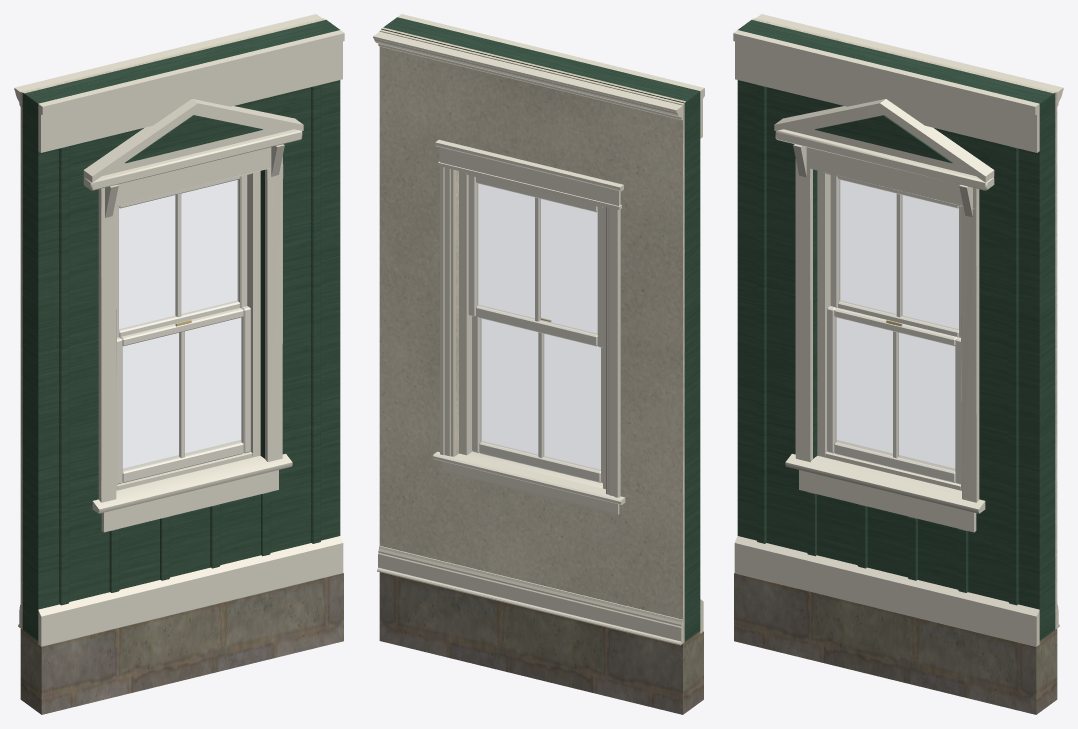
File: w_win.glb
The picture shows the model from 3 angles, left to right: view 1: azimuth 30°, elevation 25°; view 2: azimuth 150°, elevation 25°; view 3: azimuth 330°, elevation 25°; orthographic projection.
Visible parts, largest first — view 1: w_win_boards, w_win_trim, w_win_stone, w_win_glass, folha_2_glass, folha_sash, w_win_frame, w_win_sash, folha_glass, w_win_plaster, molduras; view 2: w_win_plaster, molduras, w_win_stone, w_win_glass, w_win_boards, folha_glass, w_win_sash, w_win_frame, folha_2_glass, folha_sash, w_win_trim; view 3: w_win_boards, w_win_trim, w_win_stone, w_win_glass, folha_glass, folha_sash, w_win_frame, folha_2_glass, w_win_sash, w_win_plaster, molduras.
Part boxes in pixels (x1,y1,x2,y2): w_win_boards: (22,20,340,640); w_win_trim: (38,30,344,646); w_win_stone: (20,573,343,714); w_win_glass: (119,180,238,329); folha_2_glass: (128,318,241,466); folha_sash: (117,304,250,484); w_win_frame: (116,171,260,490); w_win_sash: (117,175,247,337); folha_glass: (123,336,233,470); w_win_plaster: (20,18,325,629); molduras: (14,14,321,627); w_win_plaster: (379,27,685,643); molduras: (373,31,682,645); w_win_stone: (379,572,703,714); w_win_glass: (477,183,597,334); w_win_boards: (381,17,700,641); folha_glass: (481,319,600,455); w_win_sash: (468,175,602,347); w_win_frame: (459,171,605,489); folha_2_glass: (481,357,600,470); folha_sash: (472,316,602,483); w_win_trim: (397,14,704,633); w_win_boards: (737,20,1055,640); w_win_trim: (733,30,1039,646); w_win_stone: (734,573,1057,714); w_win_glass: (839,180,958,329); folha_glass: (836,330,954,470); folha_sash: (827,304,960,484); w_win_frame: (817,170,961,490); folha_2_glass: (836,318,953,452); w_win_sash: (830,175,960,337); w_win_plaster: (752,18,1057,629); molduras: (756,14,1063,627).
Bounding box in the file's own units: 2 × 3.85 × 0.375.
Materials: 8 (3 with a texture image).
